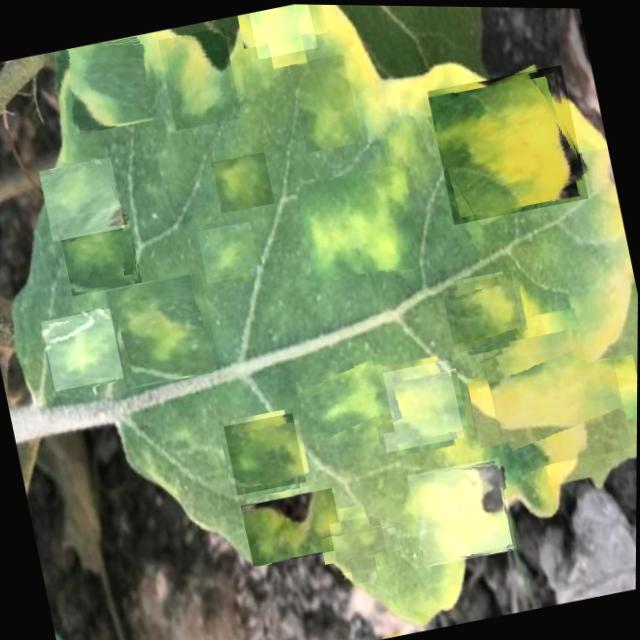leaf_spot: (426, 60, 589, 224), (481, 318, 633, 471), (543, 143, 639, 361), (294, 160, 423, 284), (106, 270, 220, 387), (407, 452, 519, 565), (54, 31, 159, 132), (300, 350, 395, 446), (370, 356, 465, 451), (157, 24, 242, 129), (241, 484, 345, 566), (38, 154, 125, 241), (288, 50, 362, 151), (58, 210, 142, 295), (223, 410, 307, 494), (41, 306, 124, 390), (446, 270, 525, 350), (196, 218, 261, 282), (211, 149, 275, 212), (249, 3, 317, 58), (329, 511, 390, 572)
